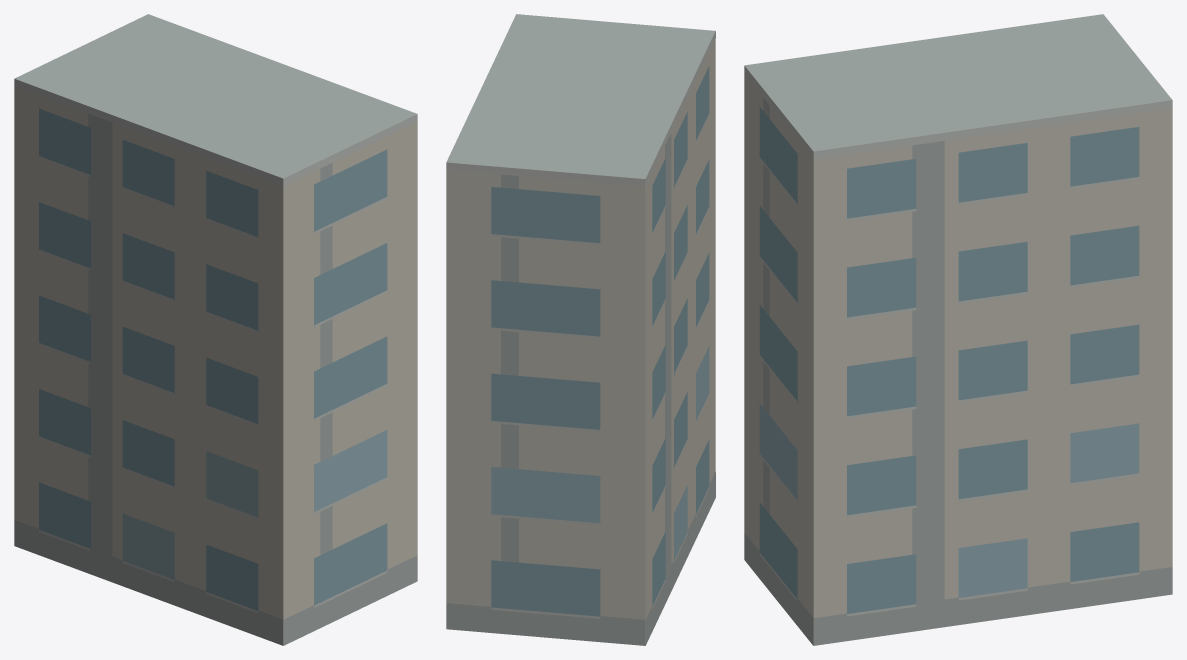
Rendered from residential-85125afa-f350-4b20-ae52-1057342d3bfe.glb.
3 views of the same model, side by side, from view 1: azimuth 30°, elevation 25°; view 2: azimuth 150°, elevation 25°; view 3: azimuth 270°, elevation 25° (orthographic). The views are drawn at different scales.
Parts seen in each view (by area): view 1: residential-85125afa-f350-4b20-ae52-1057342d3bfe.tmp; view 2: residential-85125afa-f350-4b20-ae52-1057342d3bfe.tmp; view 3: residential-85125afa-f350-4b20-ae52-1057342d3bfe.tmp.
Part boxes in pixels (<box>): residential-85125afa-f350-4b20-ae52-1057342d3bfe.tmp: <box>14,14,417,645</box>; residential-85125afa-f350-4b20-ae52-1057342d3bfe.tmp: <box>446,14,715,645</box>; residential-85125afa-f350-4b20-ae52-1057342d3bfe.tmp: <box>744,14,1172,645</box>.
Size of the model in its own units: 8.96 by 15 by 11.79.
